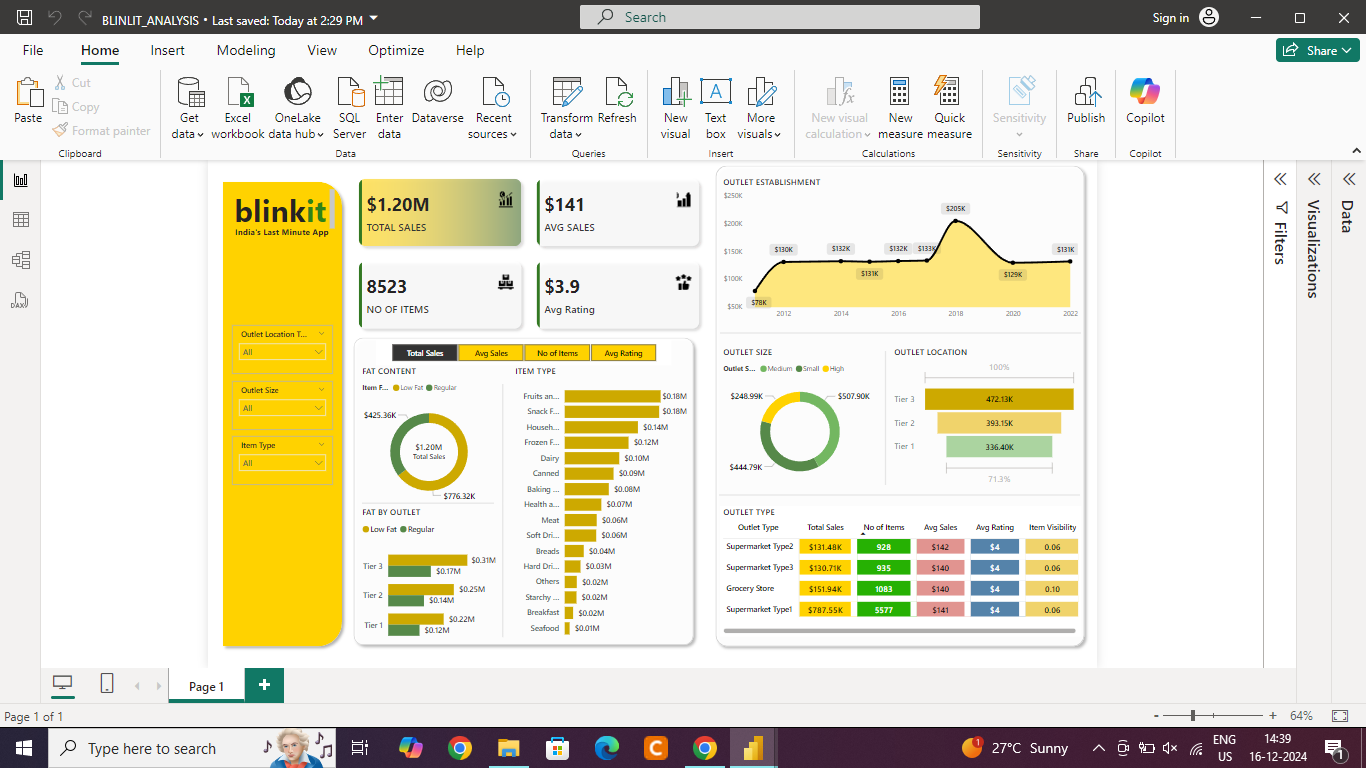

This screenshot's page, from the dashboard's own definition file:
{"tool":"powerbi","page":{"name":"Page 1","canvas":[1400,800],"ordinal":0},"visuals":[{"type":"shape","box":[14.7,25.7,205.8,749.6],"z":0},{"type":"textbox","box":[268.2,698.2,205.8,77.2],"z":1000},{"type":"textbox","box":[31.2,40.4,172.7,73.5],"z":2000},{"type":"textbox","box":[23.9,99.2,185.6,29.4],"z":3000},{"type":"cardVisual","fields":{"Data":["BlinkIT Grocery Data.Total Sales","BlinkIT Grocery Data.Avg Sales","BlinkIT Grocery Data.No of Items","BlinkIT Grocery Data.Avg Rating"]},"box":[220.5,12.6,570.1,270.9],"z":4000},{"type":"shape","box":[220.5,270.1,553,501.6],"z":5000},{"type":"donutChart","title":"FAT CONTENT","fields":{"Y":["BlinkIT Grocery Data.Total Sales"],"Category":["BlinkIT Grocery Data.Item Fat Content"]},"box":[237,323.4,220.5,229.7],"z":6000},{"type":"slicer","fields":{"Values":["Metrics.Metrics"]},"box":[264.6,282.9,464.8,40.4],"z":7000},{"type":"cardVisual","fields":{"Data":["BlinkIT Grocery Data.Total Sales"]},"box":[305.5,425.2,85,56.7],"z":8000},{"type":"clusteredBarChart","title":"FAT BY OUTLET","fields":{"Y":["BlinkIT Grocery Data.Total Sales"],"Category":["BlinkIT Grocery Data.Outlet Location Type"],"Series":["BlinkIT Grocery Data.Item Fat Content"]},"box":[237.8,544.9,220.5,229.9],"z":9000},{"type":"shape","box":[242.5,527.3,207.6,25.7],"z":10000},{"type":"shape","box":[450.1,352.8,27.6,398.7],"z":11000},{"type":"barChart","title":"ITEM TYPE","fields":{"Y":["BlinkIT Grocery Data.Total Sales"],"Category":["BlinkIT Grocery Data.Item Type"]},"box":[478.7,322.8,280.3,439.4],"z":12000},{"type":"shape","box":[790.6,0,598.4,774.8],"z":13000},{"type":"lineChart","title":"OUTLET ESTABLISHMENT","fields":{"Y":["BlinkIT Grocery Data.Total Sales"],"Category":["BlinkIT Grocery Data.Outlet Establishment Year"]},"box":[806.3,25.2,568.5,234.6],"z":14000},{"type":"shape","box":[806.3,259.8,568.5,25.2],"z":15000},{"type":"donutChart","title":"OUTLET SIZE","fields":{"Y":["BlinkIT Grocery Data.Total Sales"],"Category":["BlinkIT Grocery Data.Outlet Size"]},"box":[806.3,292.9,252,225.2],"z":16000},{"type":"shape","box":[1058.3,300.8,17.3,211],"z":17000},{"type":"funnel","title":"OUTLET LOCATION","fields":{"Y":["BlinkIT Grocery Data.Sales"],"Category":["BlinkIT Grocery Data.Outlet Location Type"]},"box":[1075.6,292.9,297.6,225.2],"z":18000},{"type":"shape","box":[804.7,515,568.5,25.2],"z":19000},{"type":"pivotTable","title":"OUTLET TYPE","fields":{"Rows":["BlinkIT Grocery Data.Outlet Type"],"Values":["BlinkIT Grocery Data.Total Sales","BlinkIT Grocery Data.No of Items","BlinkIT Grocery Data.Avg Sales","BlinkIT Grocery Data.Avg Rating","BlinkIT Grocery Data.Item Visibility"]},"box":[806.3,544.9,568.5,206.3],"z":20000},{"type":"slicer","fields":{"Values":["BlinkIT Grocery Data.Outlet Location Type"]},"box":[37.8,259.8,159.1,77.2],"z":21000},{"type":"slicer","fields":{"Values":["BlinkIT Grocery Data.Outlet Size"]},"box":[37.8,348,159.1,77.2],"z":22000},{"type":"slicer","fields":{"Values":["BlinkIT Grocery Data.Item Type"]},"box":[37.8,434.6,159.1,77.2],"z":23000}]}

Visuals, with their boxes on the page's 1400x800 design canvas (x1, y1, x2, y2). These are canvas units, not pixel positions in the 1366x768 screenshot, which may show the page scaled, cropped or inside an application window:
shape: [15, 26, 220, 775]
textbox: [268, 698, 474, 775]
textbox: [31, 40, 204, 114]
textbox: [24, 99, 210, 129]
cardVisual - BlinkIT Grocery Data.Total Sales x BlinkIT Grocery Data.Avg Sales: [220, 13, 791, 284]
shape: [220, 270, 774, 772]
"FAT CONTENT" donutChart: [237, 323, 458, 553]
slicer - Metrics.Metrics: [265, 283, 729, 323]
cardVisual - BlinkIT Grocery Data.Total Sales: [306, 425, 390, 482]
"FAT BY OUTLET" clusteredBarChart: [238, 545, 458, 775]
shape: [242, 527, 450, 553]
shape: [450, 353, 478, 752]
"ITEM TYPE" barChart: [479, 323, 759, 762]
shape: [791, 0, 1389, 775]
"OUTLET ESTABLISHMENT" lineChart: [806, 25, 1375, 260]
shape: [806, 260, 1375, 285]
"OUTLET SIZE" donutChart: [806, 293, 1058, 518]
shape: [1058, 301, 1076, 512]
"OUTLET LOCATION" funnel: [1076, 293, 1373, 518]
shape: [805, 515, 1373, 540]
"OUTLET TYPE" pivotTable: [806, 545, 1375, 751]
slicer - BlinkIT Grocery Data.Outlet Location Type: [38, 260, 197, 337]
slicer - BlinkIT Grocery Data.Outlet Size: [38, 348, 197, 425]
slicer - BlinkIT Grocery Data.Item Type: [38, 435, 197, 512]
